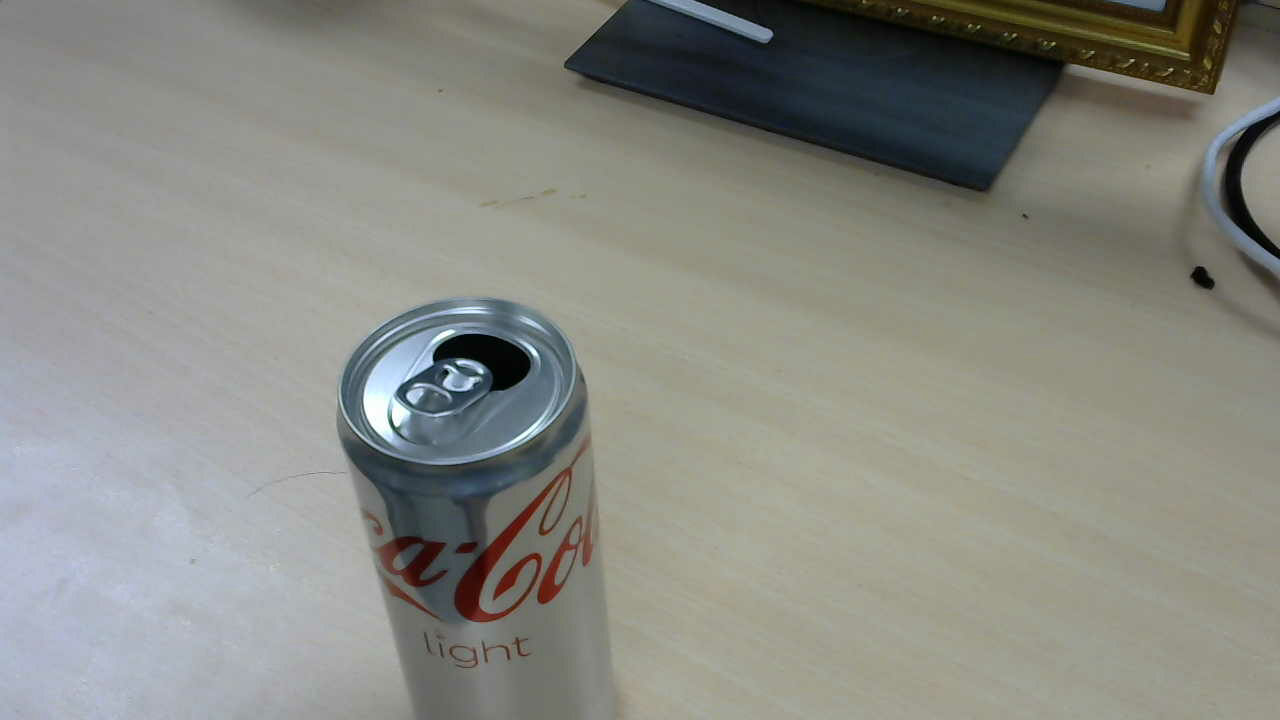Coca_Cola: (340, 300, 619, 720)
